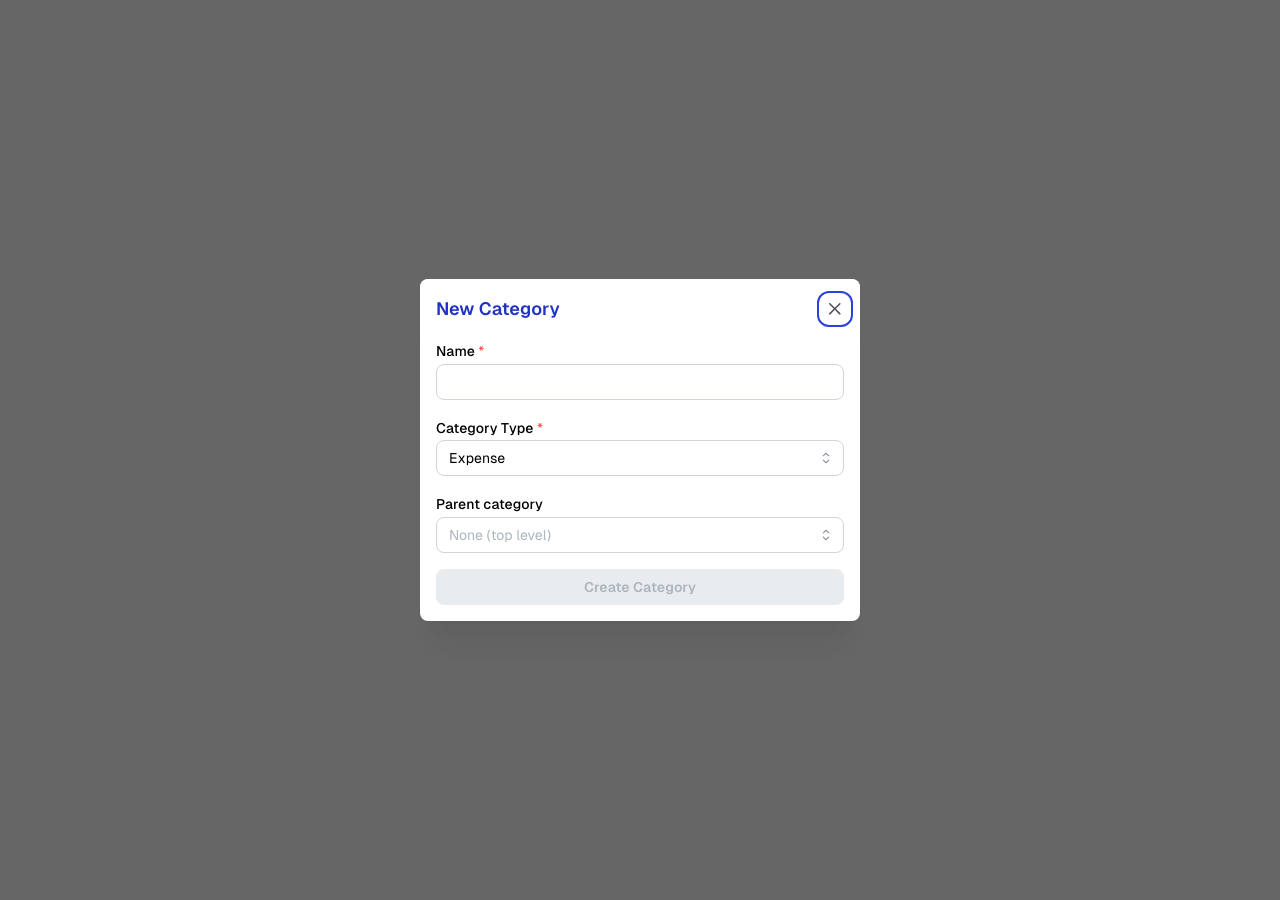
Test case: CreateCategoryModal › enables Create once name is set
expect the button "Create Category" is disabled: met, box [436,569,844,605]
Type "Housing" into the field labelled "Name *" at (640, 382), box [436,364,844,400]
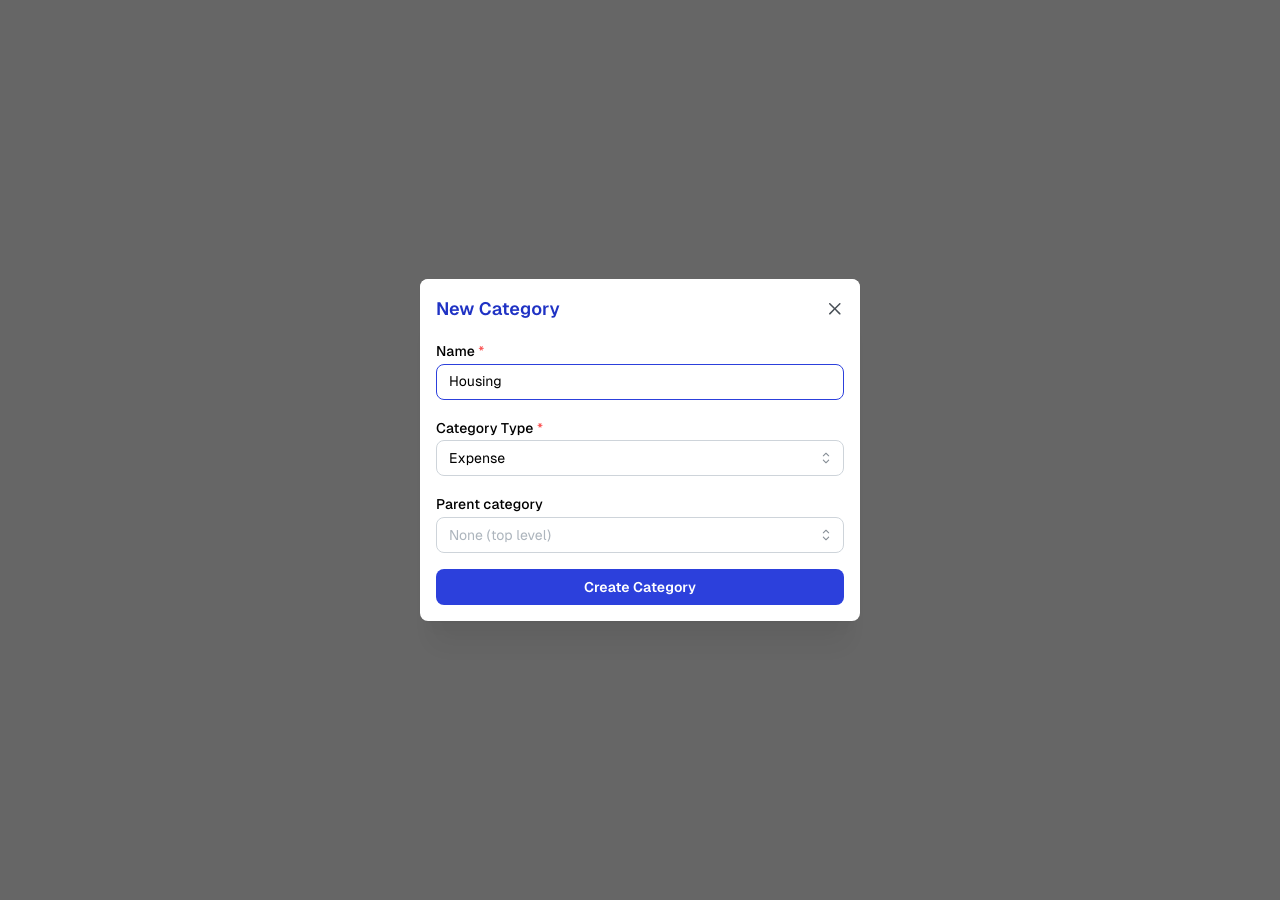
expect the button "Create Category" is enabled: met, box [436,569,844,605]
